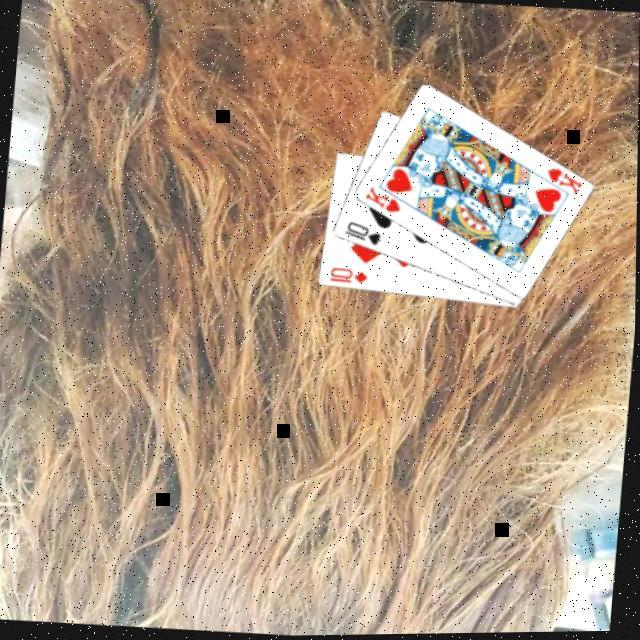10D: (328, 266, 372, 290)
10S: (342, 220, 387, 252)
KH: (543, 167, 587, 203), (362, 185, 406, 219)
